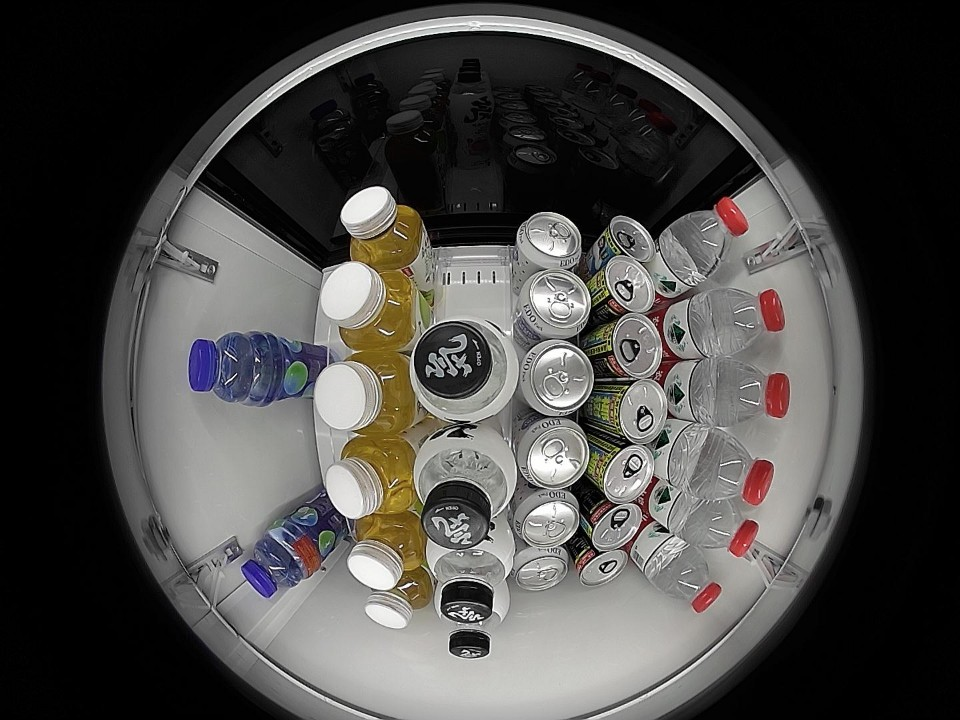chapai2: (320, 262, 419, 351), (315, 352, 416, 435), (325, 435, 417, 520), (341, 186, 427, 270), (348, 513, 426, 590), (365, 569, 432, 630)
maidong: (187, 332, 264, 404), (241, 531, 308, 599)
nongfushanquan: (672, 197, 750, 277), (703, 433, 774, 505), (713, 287, 785, 354), (718, 360, 791, 426), (656, 548, 724, 614), (692, 499, 759, 558)
rusuanjunqishui: (519, 340, 595, 416), (516, 416, 591, 489), (518, 269, 592, 339), (513, 488, 581, 548), (514, 211, 583, 270), (512, 544, 571, 592)
yezhi: (599, 313, 663, 380), (604, 379, 669, 444), (592, 441, 657, 503), (595, 257, 657, 318), (582, 498, 644, 551), (597, 216, 657, 264), (573, 544, 629, 587)
yuanqishui: (413, 426, 518, 551), (409, 316, 519, 424), (430, 529, 514, 624), (442, 598, 510, 658)
